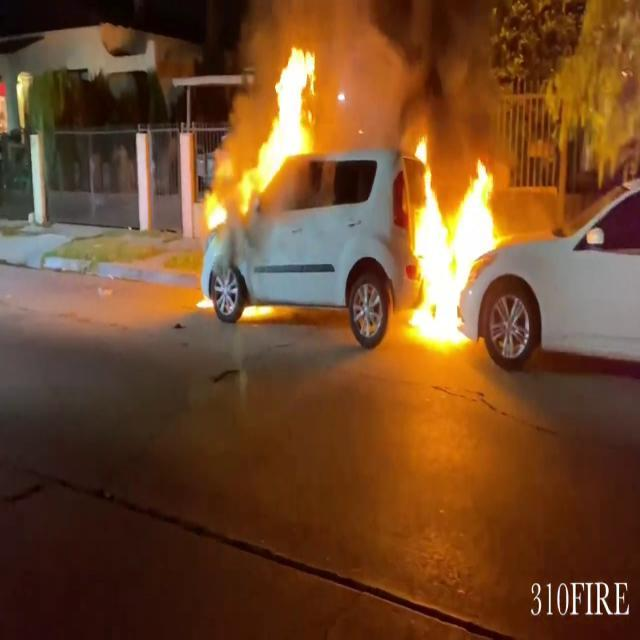Fire: (207, 40, 323, 249), (398, 133, 504, 351)
Smoke: (314, 0, 508, 141)
